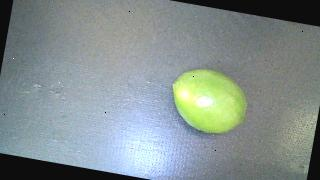EXPORTACION: (166, 64, 252, 139)
